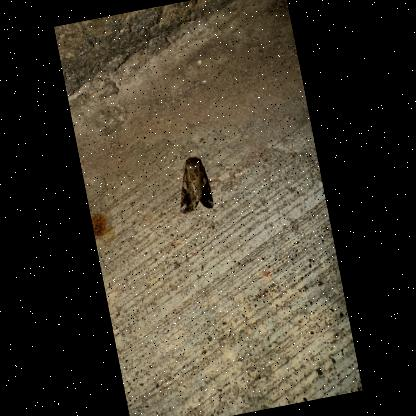Fall Armyworm Moth: (168, 152, 218, 216)
